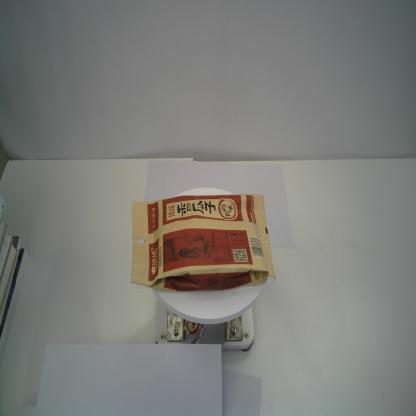Dried Food: (127, 190, 277, 293)
